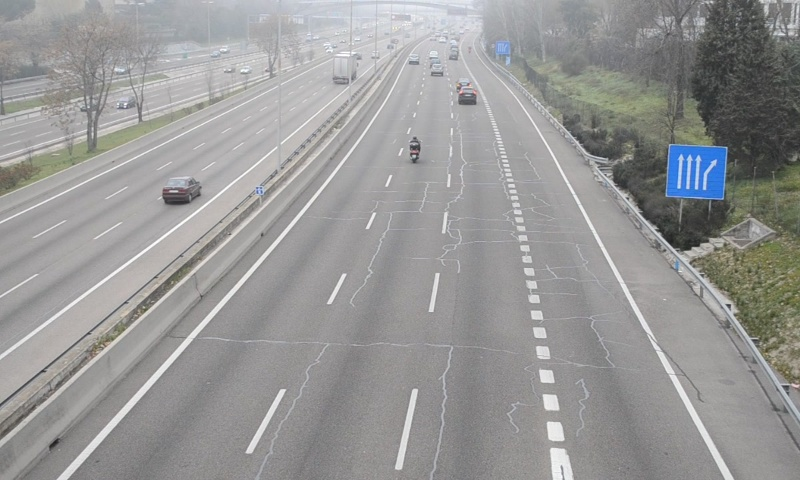car: (458, 86, 477, 105)
motorcycle: (408, 136, 420, 163)
